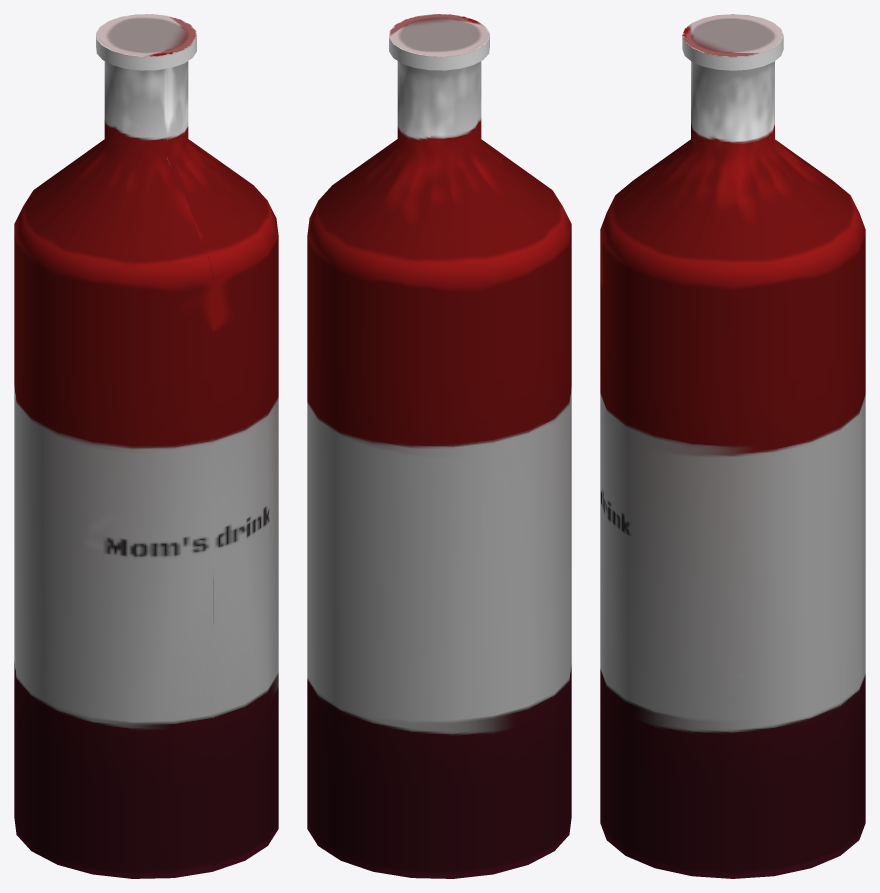
Rendered from wine.fbx.
3 views of the same model, side by side, from view 1: azimuth 30°, elevation 25°; view 2: azimuth 150°, elevation 25°; view 3: azimuth 270°, elevation 25° (orthographic).
Parts seen in each view (by area): view 1: wine; view 2: wine; view 3: wine.
Boxes of the visible parts, x1,y1,x2,y2 form: wine: (14, 14, 278, 878); wine: (307, 14, 571, 878); wine: (600, 14, 865, 878).
Bounding box in the file's own units: 9.11 × 29.81 × 9.11.
1 material, 1 textured.
